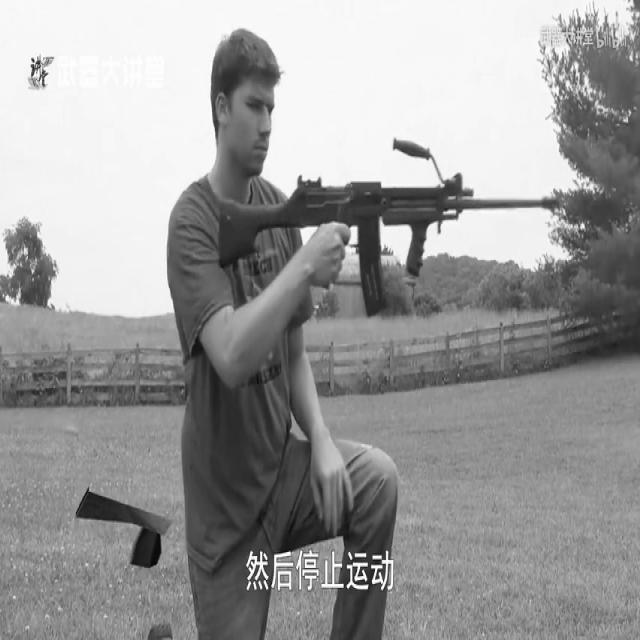Sniper: (198, 123, 571, 428)
